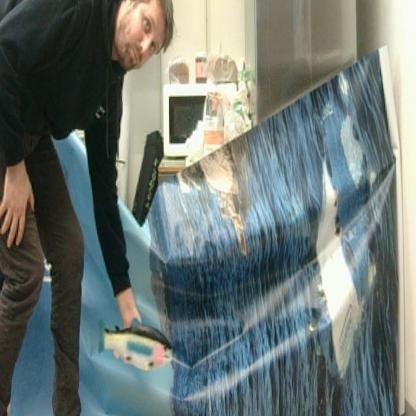rubberfish: (96, 314, 177, 374)
